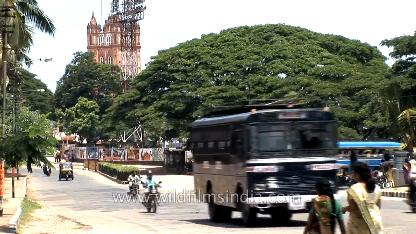auto-rikshaw: (57, 160, 78, 181)
bike: (142, 170, 164, 212), (124, 169, 141, 201)
priority: (194, 105, 342, 223)
